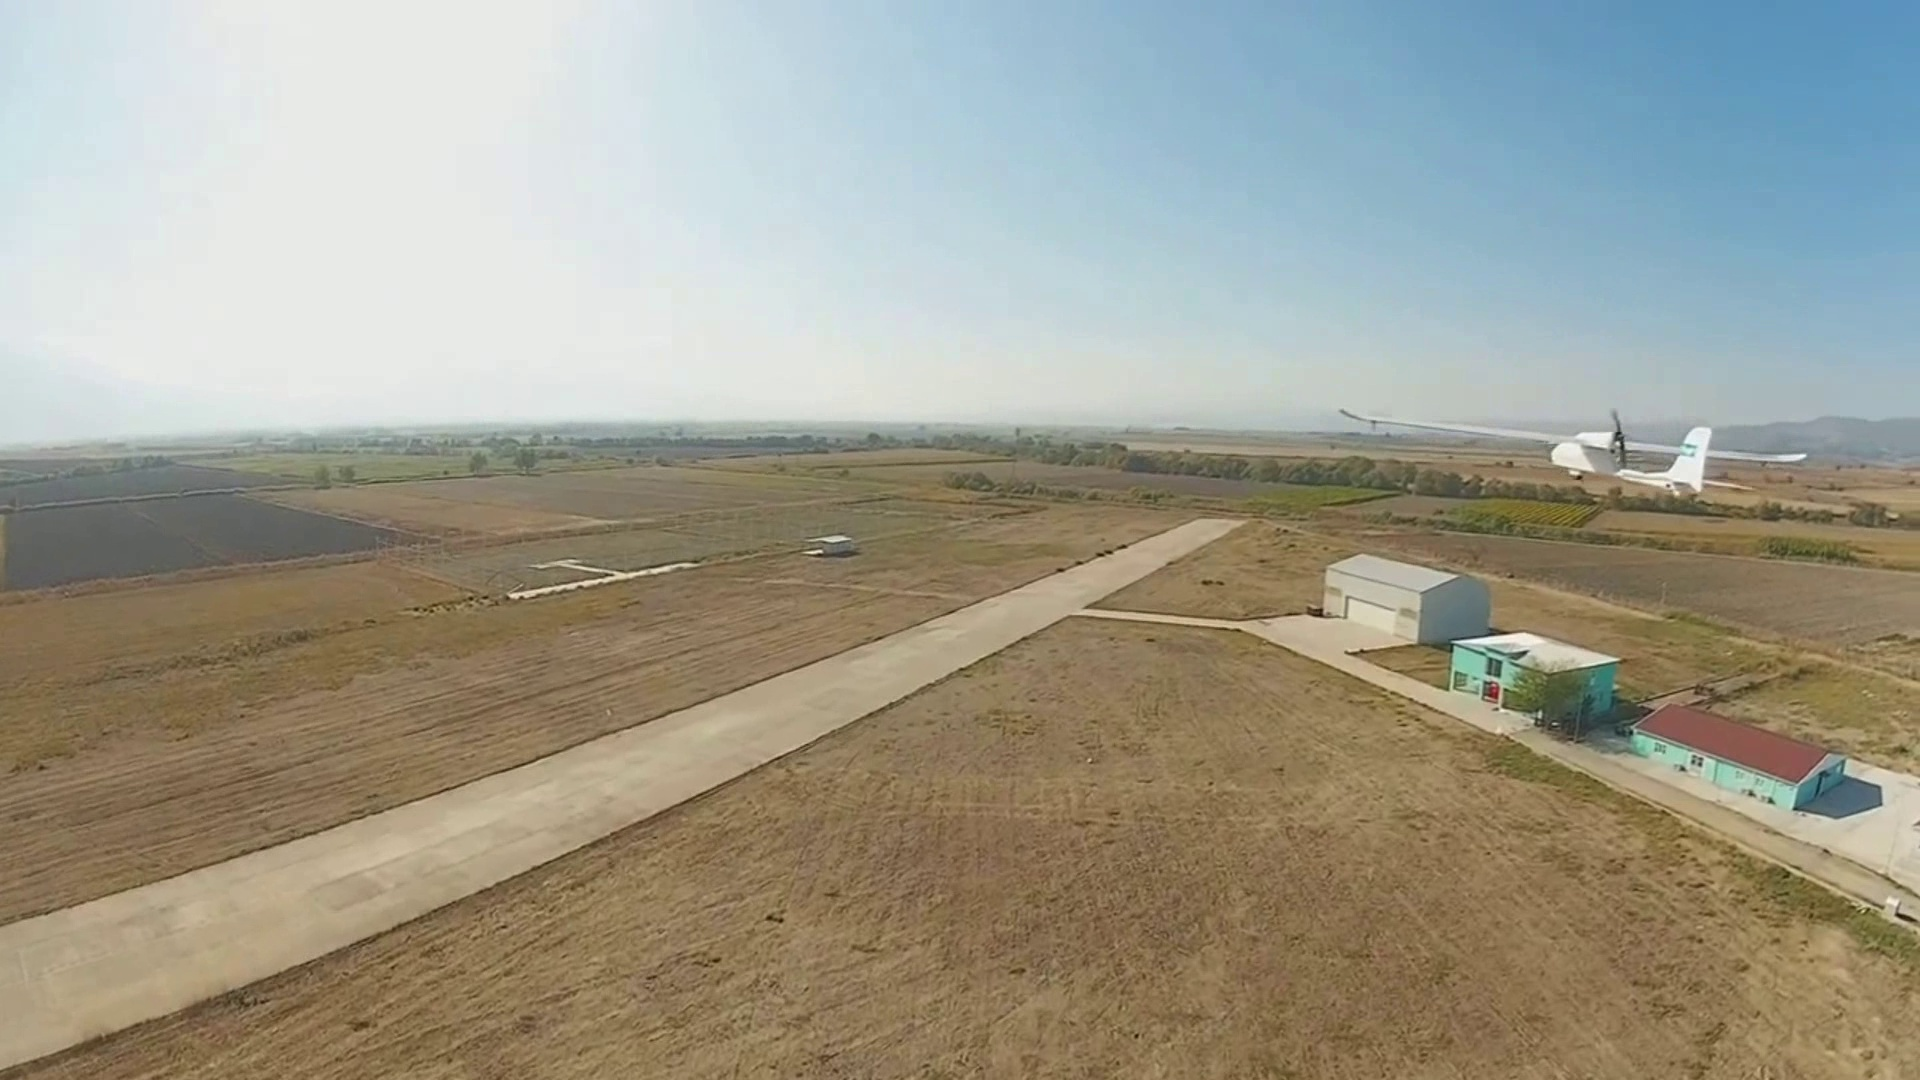airplane: (1333, 400, 1811, 505), (1542, 411, 1808, 502)
